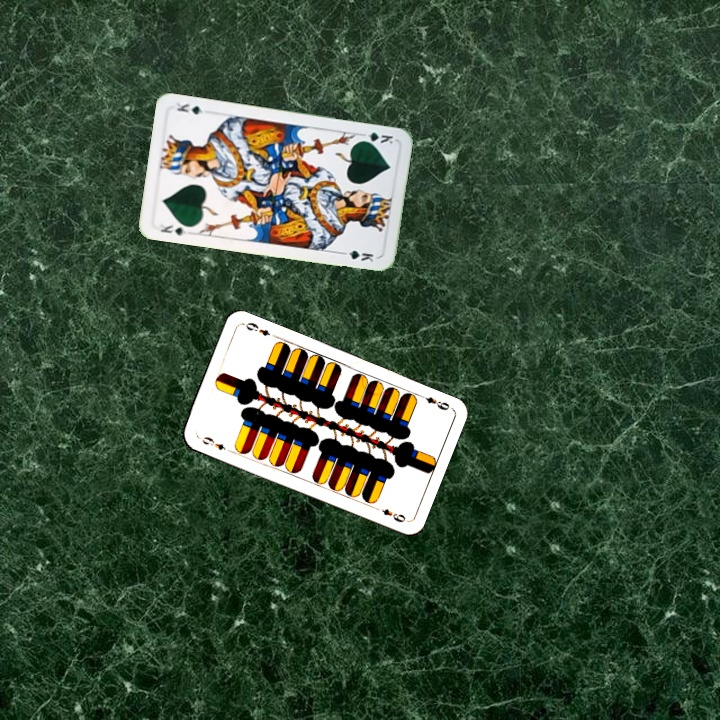E9: (195, 432, 233, 455), (414, 390, 452, 413)
GK: (356, 128, 395, 147), (153, 220, 189, 238)
